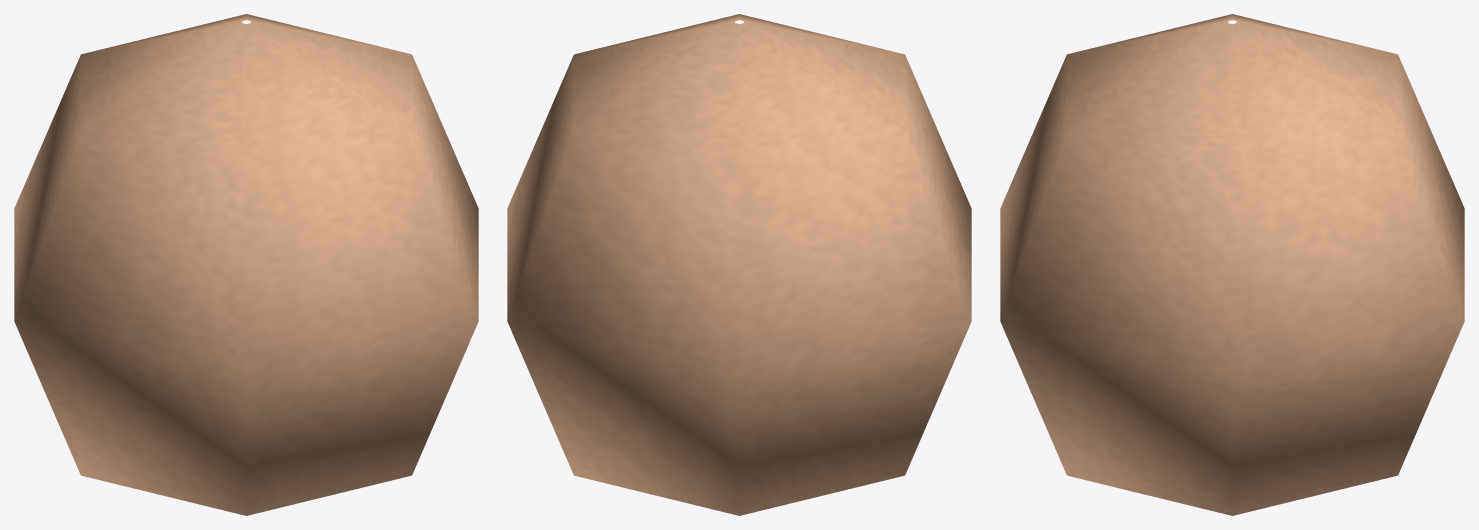
The model's file is facial_clean_default.gltf.
The picture shows the model from 3 angles, left to right: view 1: azimuth 30°, elevation 25°; view 2: azimuth 150°, elevation 25°; view 3: azimuth 270°, elevation 25°; orthographic projection.
Visible parts, largest first — view 1: Clean Shaven; view 2: Clean Shaven; view 3: Clean Shaven.
Boxes of the visible parts, x1,y1,x2,y2 form: Clean Shaven: [14, 14, 478, 515]; Clean Shaven: [507, 14, 971, 515]; Clean Shaven: [1000, 14, 1464, 515].
Bounding box in the file's own units: 0.002 × 0.002 × 0.00173.
Materials: 1 (1 with a texture image).
